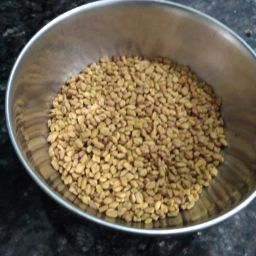Fenugeek (seeds): (66, 43, 198, 230), (100, 53, 237, 225), (88, 60, 231, 207), (48, 82, 164, 207)
